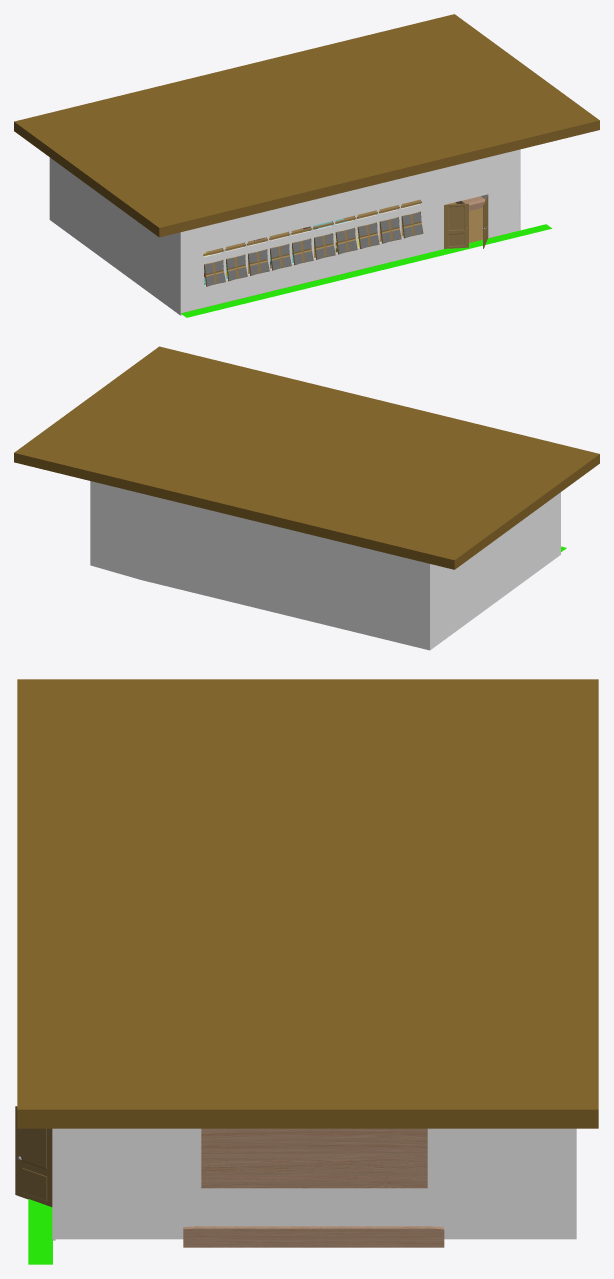
Rendered from kelas.glb.
The picture shows the model from 3 angles, top to bottom: view 1: azimuth 30°, elevation 25°; view 2: azimuth 150°, elevation 25°; view 3: azimuth 270°, elevation 25°; orthographic projection. The views are drawn at different scales.
Visible parts, largest first — view 1: Cube, Plane, Plane.012, Cube.110, Plane.010, Plane.004, Plane.005, Plane.011, Plane.002, Plane.003, Plane.006, Plane.008 (+2 smaller); view 2: Cube, Plane; view 3: Cube, Plane, papan, papan bawah, Cube.111, Plane.012.
Boxes of the visible parts, bbox=[...] form: Cube: bbox=[14, 14, 599, 237]; Plane: bbox=[49, 149, 520, 315]; Plane.012: bbox=[181, 224, 551, 317]; Cube.110: bbox=[444, 203, 468, 248]; Plane.010: bbox=[226, 254, 247, 281]; Plane.004: bbox=[357, 222, 379, 248]; Plane.005: bbox=[335, 227, 357, 254]; Plane.011: bbox=[204, 260, 225, 286]; Plane.002: bbox=[401, 211, 423, 238]; Plane.003: bbox=[379, 217, 401, 243]; Plane.006: bbox=[314, 233, 335, 259]; Plane.008: bbox=[270, 243, 291, 270]; Cube: bbox=[14, 346, 599, 569]; Plane: bbox=[90, 481, 560, 650]; Cube: bbox=[17, 679, 598, 1128]; Plane: bbox=[52, 1128, 576, 1240]; papan: bbox=[200, 1128, 428, 1188]; papan bawah: bbox=[183, 1226, 444, 1247]; Cube.111: bbox=[15, 1106, 52, 1206]; Plane.012: bbox=[28, 1199, 52, 1264].
Bounding box in the file's own units: 281 × 62.97 × 161.
29 materials, 10 textured.
